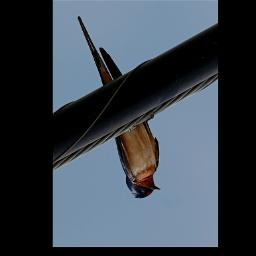Swallow: (77, 16, 161, 200)
